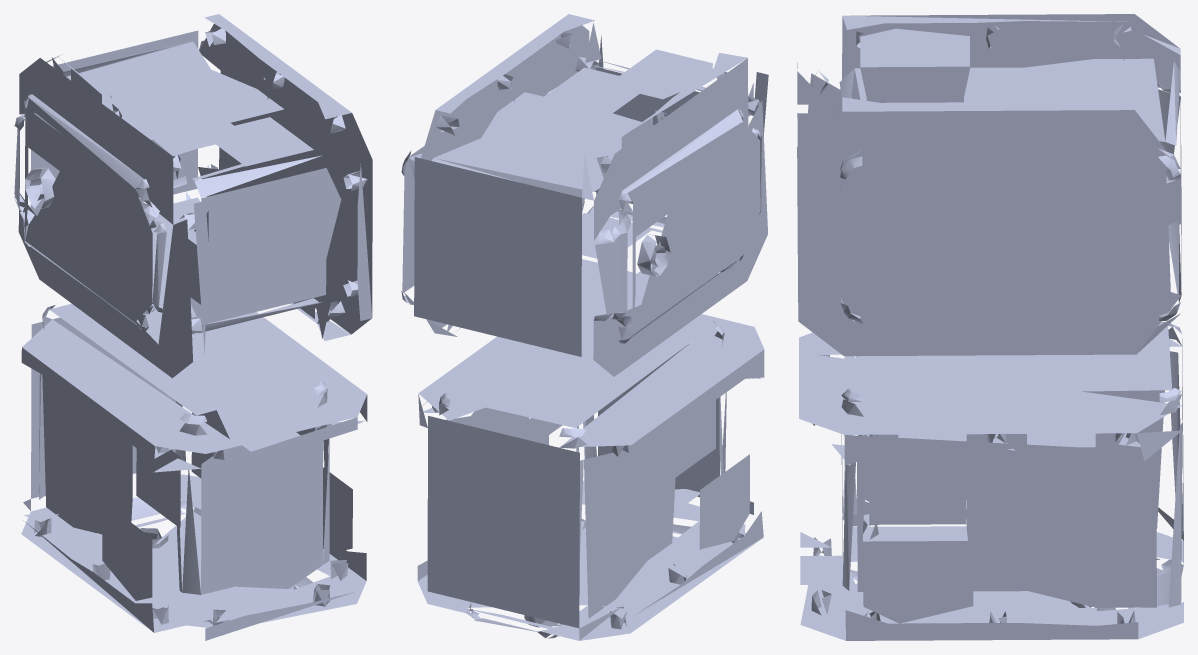
The model's file is part_17_opt.obj.
The picture shows the model from 3 angles, left to right: view 1: azimuth 30°, elevation 25°; view 2: azimuth 150°, elevation 25°; view 3: azimuth 270°, elevation 25°; orthographic projection. The views are drawn at different scales.
Parts seen in each view (by area): view 1: NONE_DC_Shell; view 2: NONE_DC_Shell; view 3: NONE_DC_Shell.
Boxes of the visible parts, box(x1,y1,x2,y2) form: NONE_DC_Shell: box(14, 14, 372, 640); NONE_DC_Shell: box(401, 14, 768, 640); NONE_DC_Shell: box(797, 14, 1183, 640).
Size of the model in its own units: 37 by 80.1 by 51.04.
